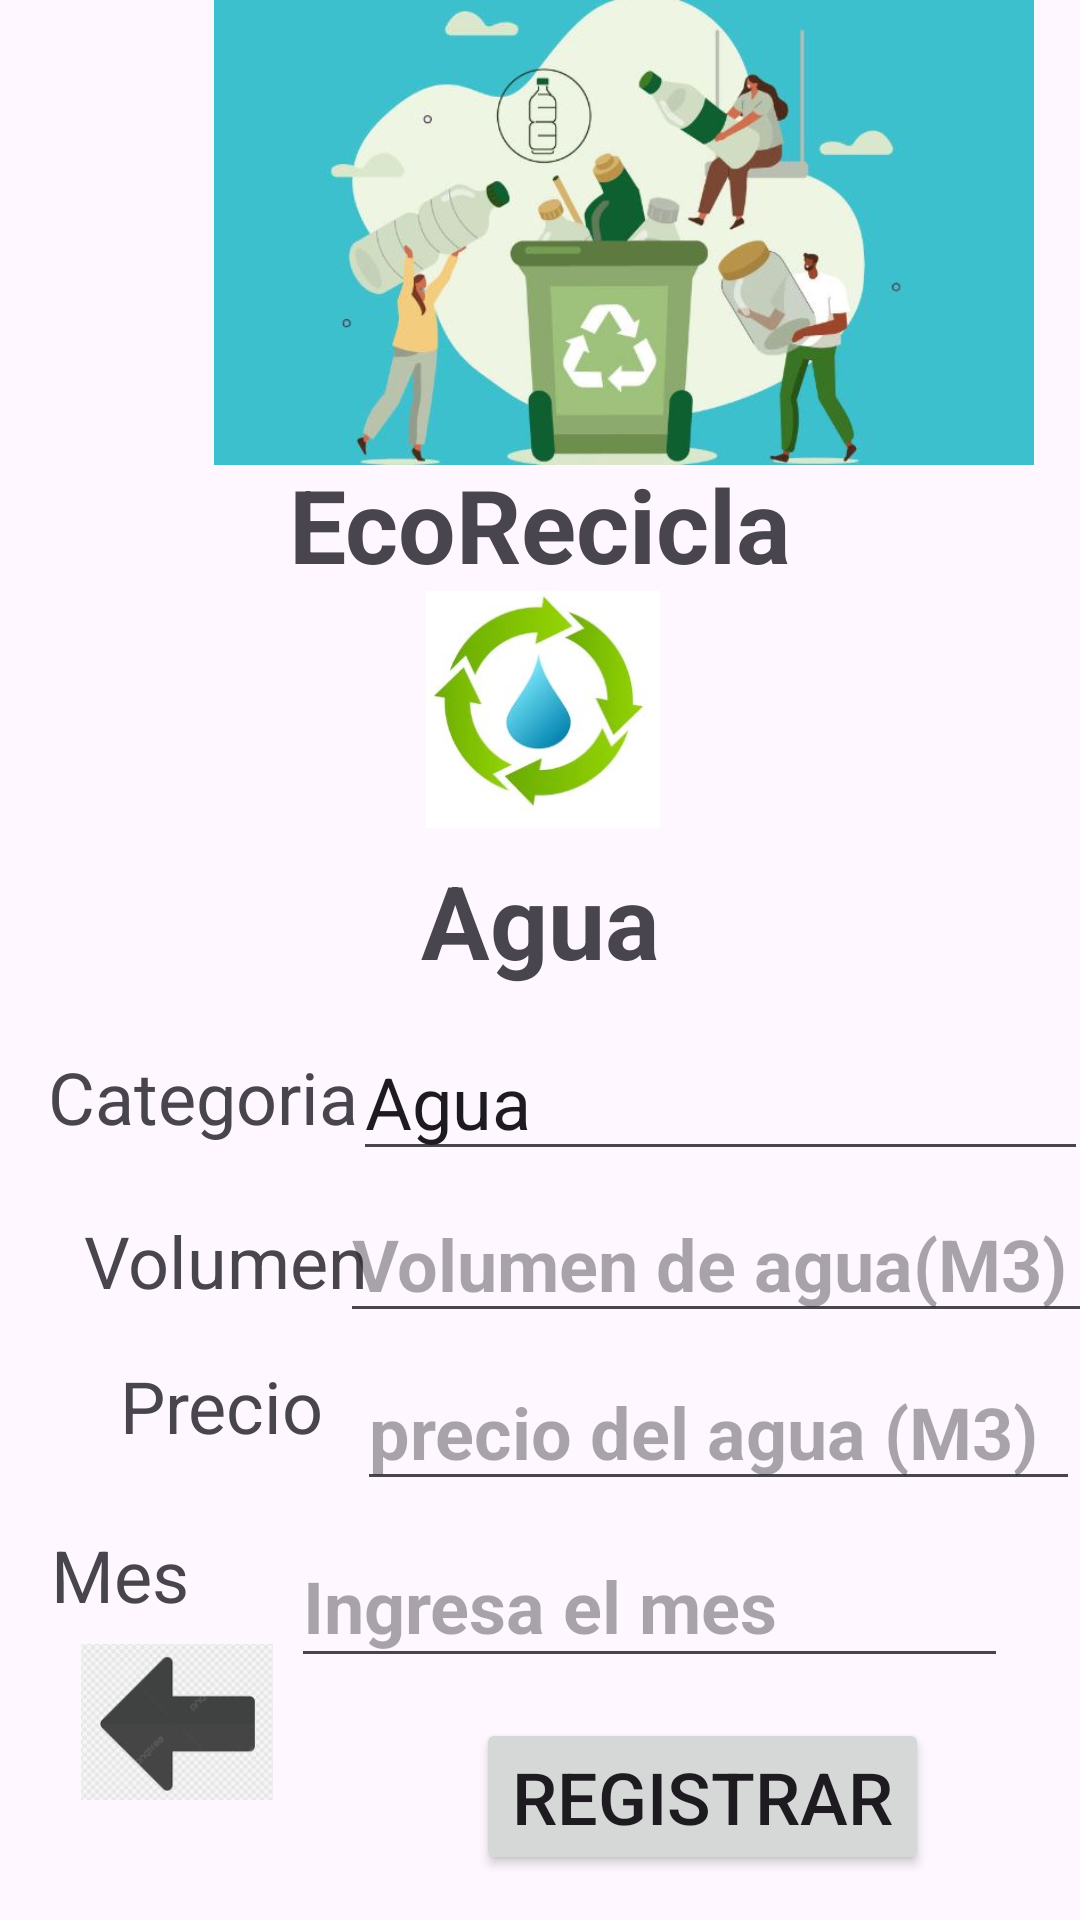

Screen size 1080 x 1920. Icon name, then its center in pixels as [x,y]:
atras: [177,1722]
